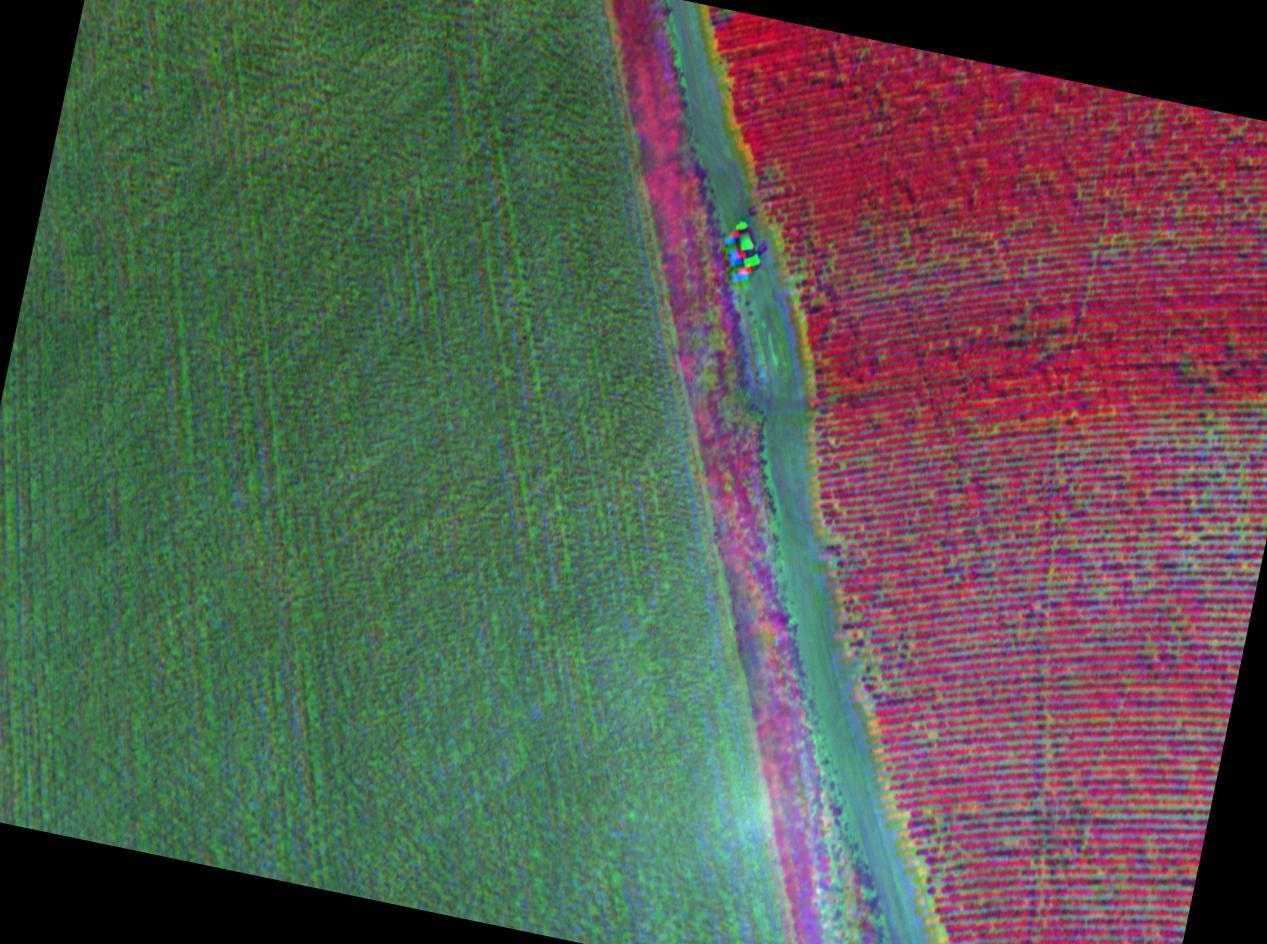dc: (1191, 470, 1267, 552), (1171, 418, 1231, 460)
